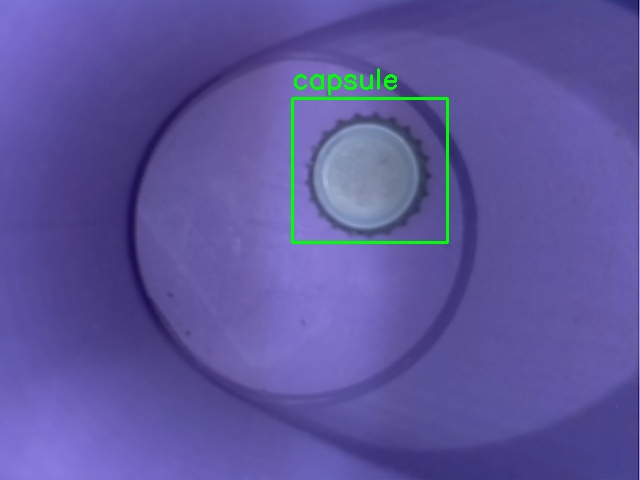capsule: (292, 98, 447, 242)
